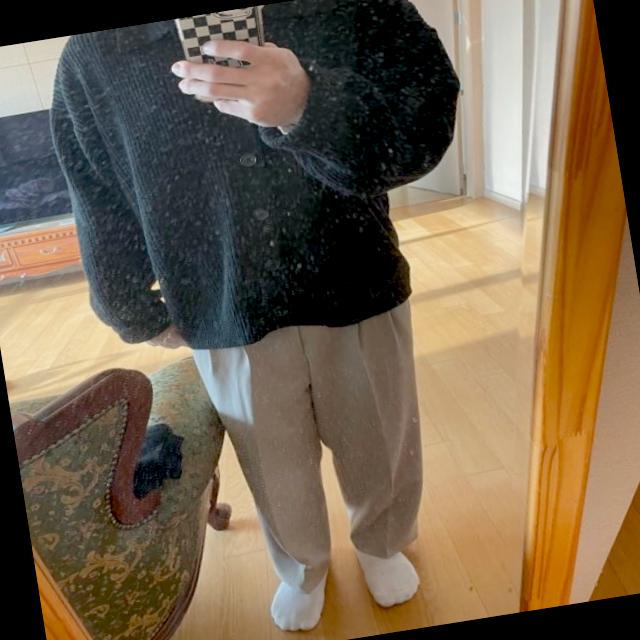cardigan: (37, 0, 496, 369)
slacks: (176, 290, 451, 598)
